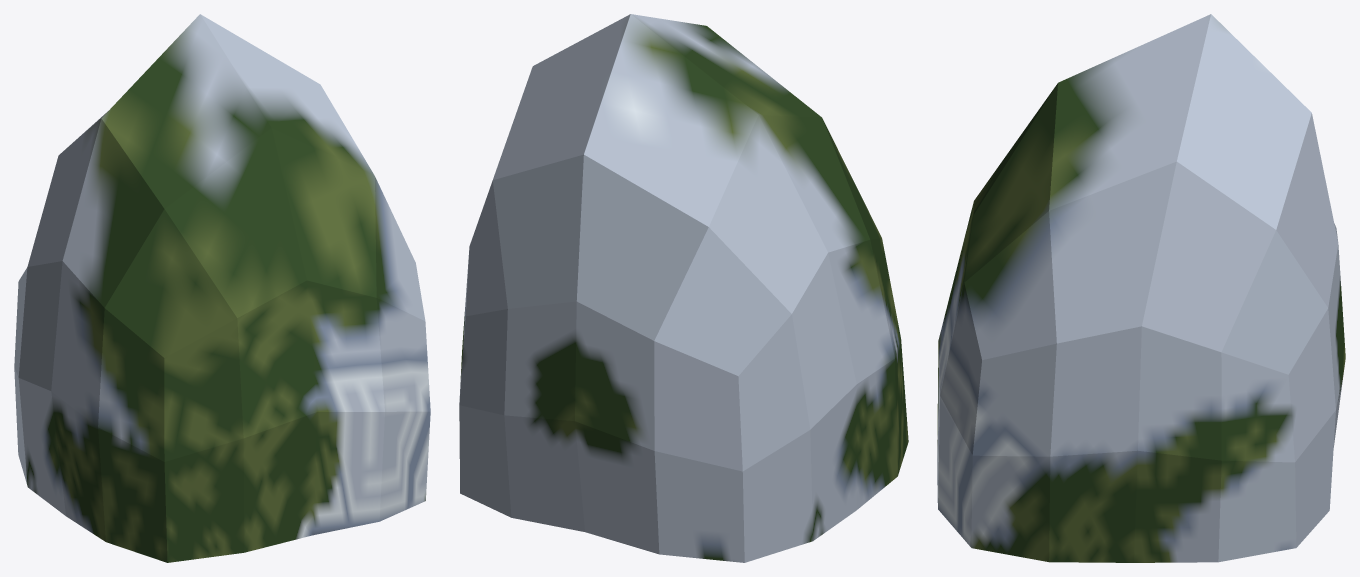
Rendered from Pedra2.fbx.
The picture shows the model from 3 angles, left to right: view 1: azimuth 30°, elevation 25°; view 2: azimuth 150°, elevation 25°; view 3: azimuth 270°, elevation 25°; orthographic projection. The views are drawn at different scales.
Visible parts, largest first — view 1: Pedra2; view 2: Pedra2; view 3: Pedra2.
Boxes of the visible parts, bbox=[...] form: Pedra2: bbox=[14, 14, 430, 562]; Pedra2: bbox=[459, 14, 908, 562]; Pedra2: bbox=[937, 14, 1345, 562].
Size of the model in its own units: 69.79 by 68.27 by 87.28.
